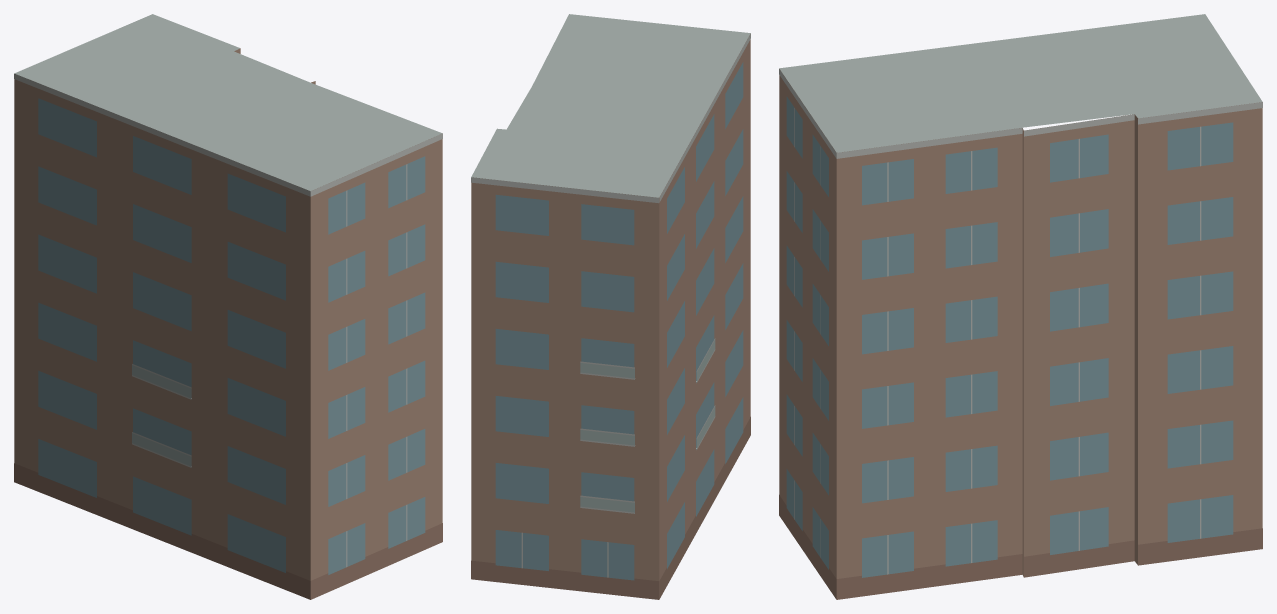
Rendered from survey-upis-32563651.glb.
3 renders of one model, left to right at view 1: azimuth 30°, elevation 25°; view 2: azimuth 150°, elevation 25°; view 3: azimuth 270°, elevation 25°, orthographic. The views are drawn at different scales.
Parts seen in each view (by area): view 1: survey-upis-32563651.tmp; view 2: survey-upis-32563651.tmp; view 3: survey-upis-32563651.tmp.
Boxes of the visible parts, <box> form: survey-upis-32563651.tmp: <box>14,14,442,599</box>; survey-upis-32563651.tmp: <box>471,14,750,599</box>; survey-upis-32563651.tmp: <box>779,14,1262,599</box>.
Size of the model in its own units: 11.93 by 17.9 by 17.56.
